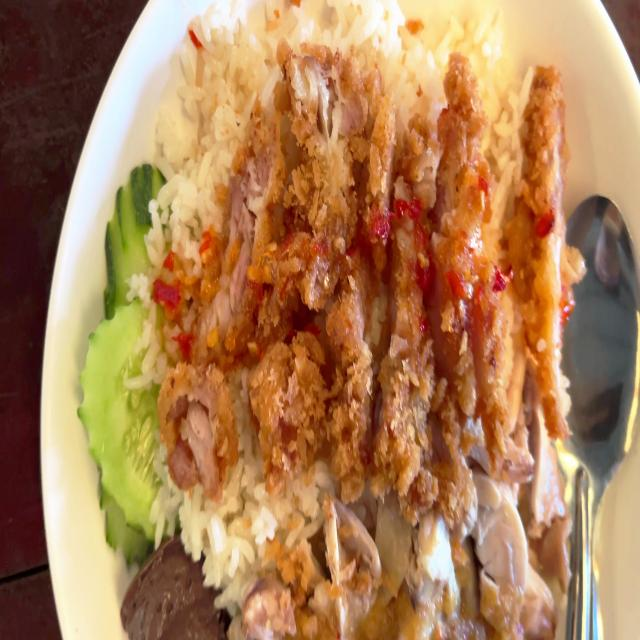boiled_chicken: (254, 476, 560, 640)
boiled_chicken_blood_jelly: (118, 539, 219, 640)
chicken_rice: (82, 0, 580, 640)
cucumber: (76, 162, 179, 534)
fried_chicken: (175, 61, 492, 460), (510, 65, 564, 422)
